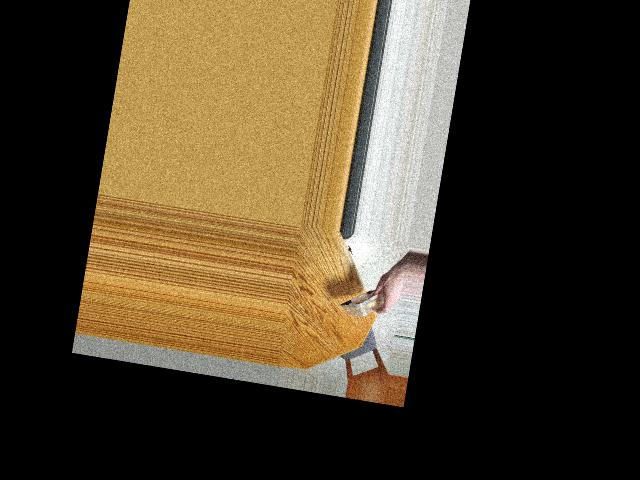cheese: (346, 270, 397, 334)
